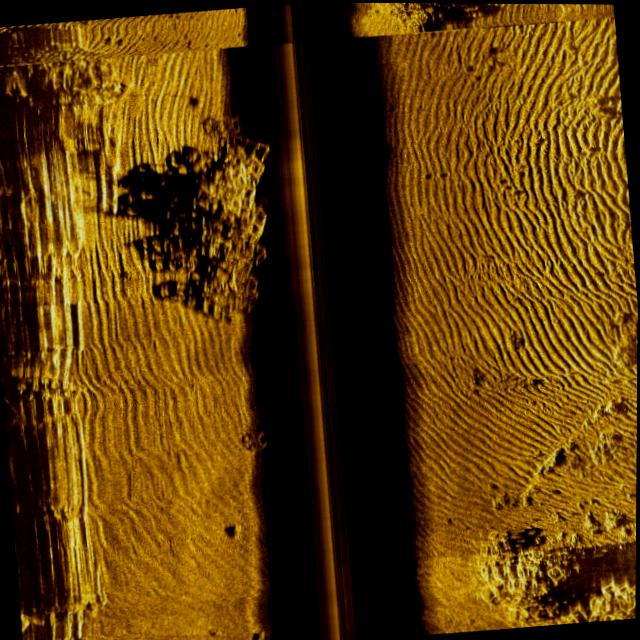artificial reef: (128, 106, 291, 333), (470, 502, 634, 631), (245, 412, 277, 463)
